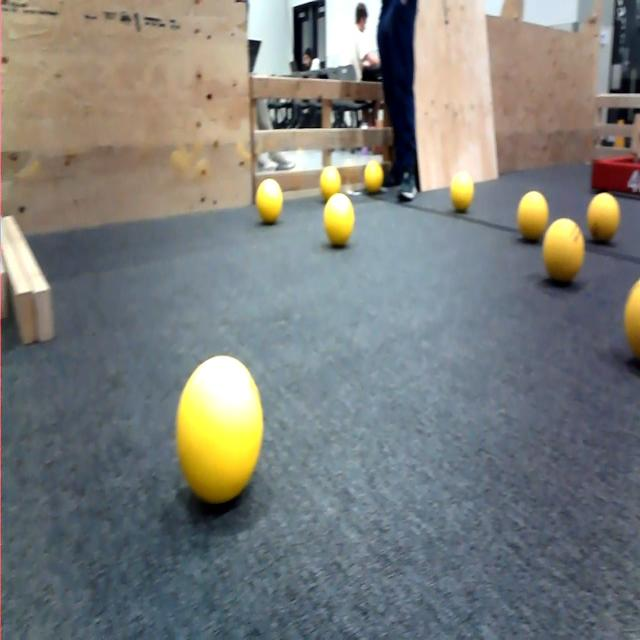fuel: (172, 356, 266, 498), (544, 217, 587, 292), (586, 189, 622, 250), (622, 274, 640, 372), (255, 173, 284, 233), (517, 191, 549, 244), (325, 192, 353, 245), (450, 166, 475, 217), (319, 157, 342, 208), (362, 159, 383, 195)
